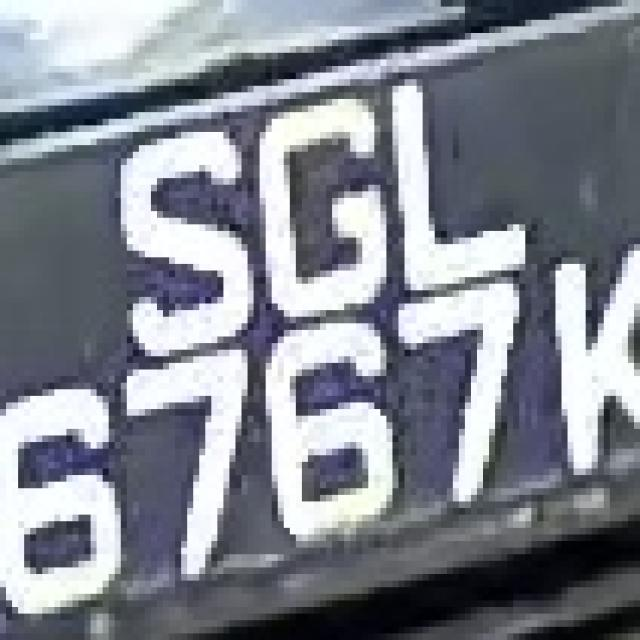6: (248, 304, 422, 554), (24, 369, 151, 627)
7: (115, 337, 278, 580), (381, 284, 532, 528)
G: (236, 106, 380, 316)
K: (525, 224, 634, 468)
L: (368, 40, 526, 290)
S: (102, 119, 272, 343)
